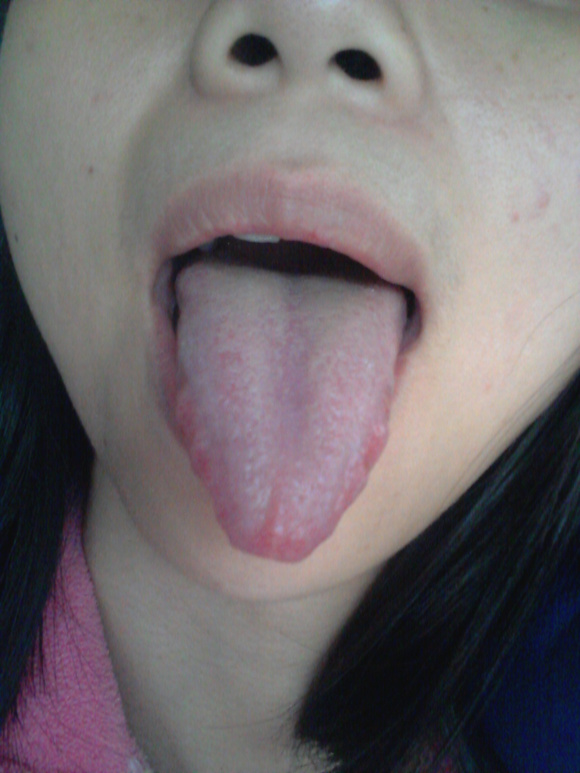baitaishe: (174, 262, 406, 564)
chihenshe: (335, 379, 394, 523), (177, 380, 227, 528)
